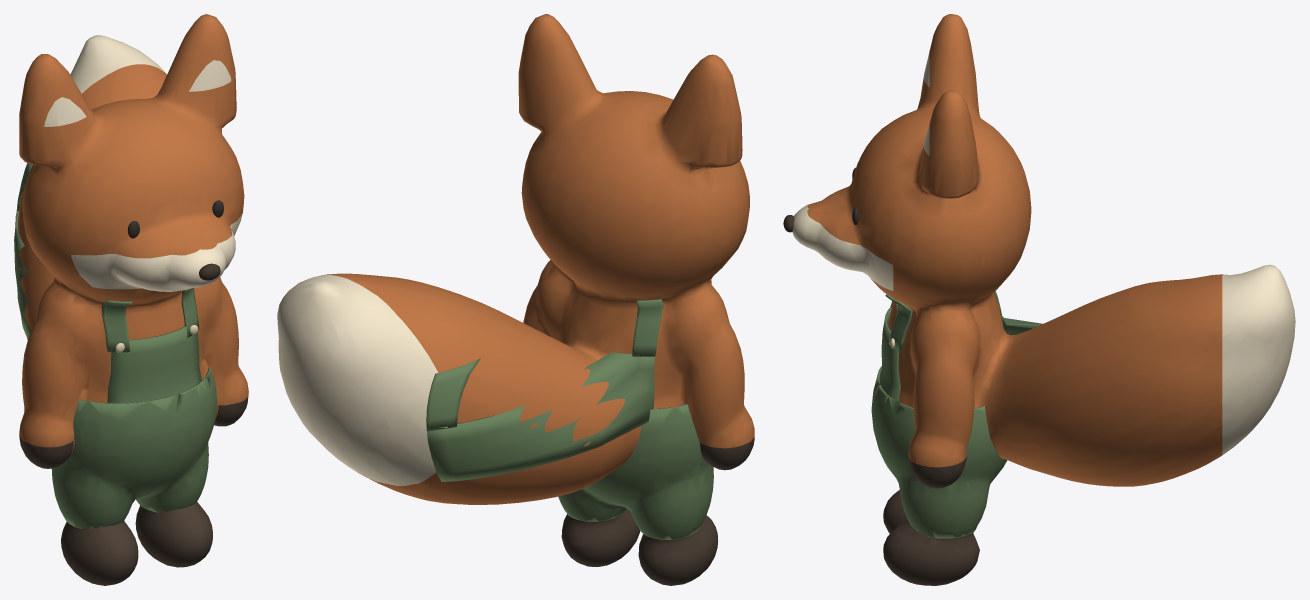
The model's file is fox_v02_static.glb.
3 views of the same model, side by side, from view 1: azimuth 30°, elevation 25°; view 2: azimuth 150°, elevation 25°; view 3: azimuth 270°, elevation 25° (orthographic). The views are drawn at different scales.
Visible parts, largest first — view 1: Orange_Cream_Paws_Continuous_Body, Green_Overalls_Garment; view 2: Orange_Cream_Paws_Continuous_Body, Green_Overalls_Garment; view 3: Orange_Cream_Paws_Continuous_Body, Green_Overalls_Garment.
Boxes of the visible parts, x1,y1,x2,y2 form: Orange_Cream_Paws_Continuous_Body: [18, 14, 248, 585]; Green_Overalls_Garment: [14, 163, 217, 528]; Orange_Cream_Paws_Continuous_Body: [277, 14, 754, 585]; Green_Overalls_Garment: [426, 299, 713, 539]; Orange_Cream_Paws_Continuous_Body: [792, 14, 1295, 585]; Green_Overalls_Garment: [871, 291, 1042, 538].
Size of the model in its own units: 0.7935 by 1.3 by 1.18.
